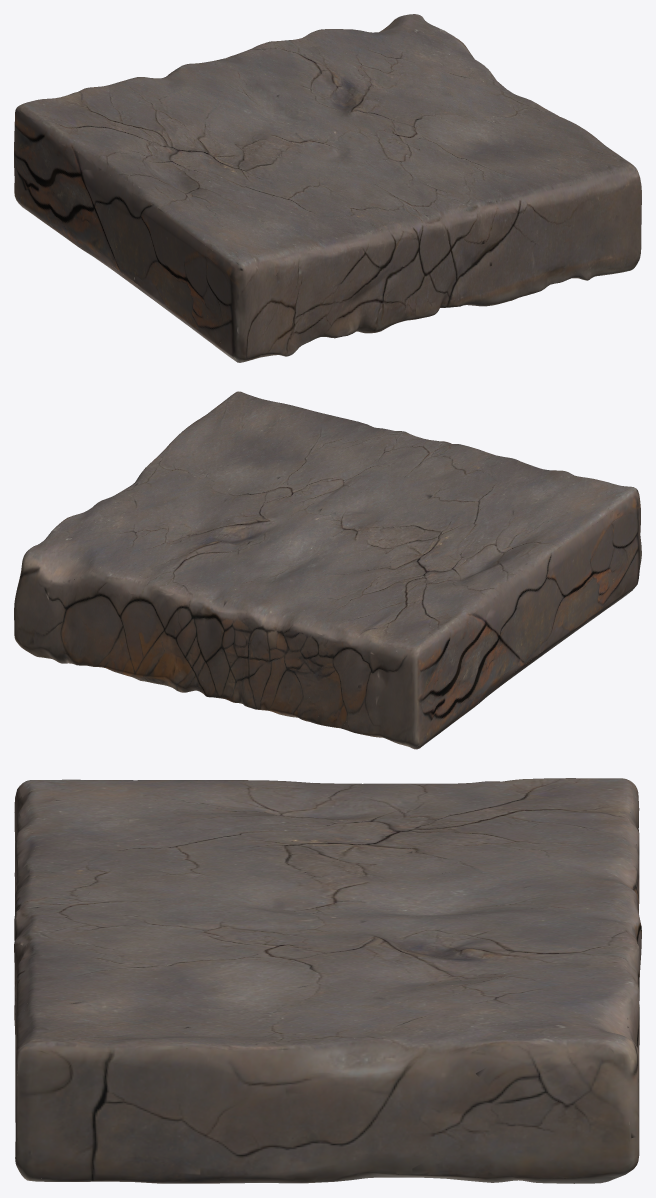
File: platform1.glb
3 views of the same model, one above another, from view 1: azimuth 30°, elevation 25°; view 2: azimuth 150°, elevation 25°; view 3: azimuth 270°, elevation 25° (orthographic). The views are drawn at different scales.
Visible parts, largest first — view 1: Mesh_0; view 2: Mesh_0; view 3: Mesh_0.
Boxes of the visible parts, bbox=[...] form: Mesh_0: bbox=[14, 14, 641, 362]; Mesh_0: bbox=[14, 391, 641, 749]; Mesh_0: bbox=[14, 778, 641, 1183].
Size of the model in its own units: 1.08 by 0.27 by 1.05.
1 material, 1 textured.
